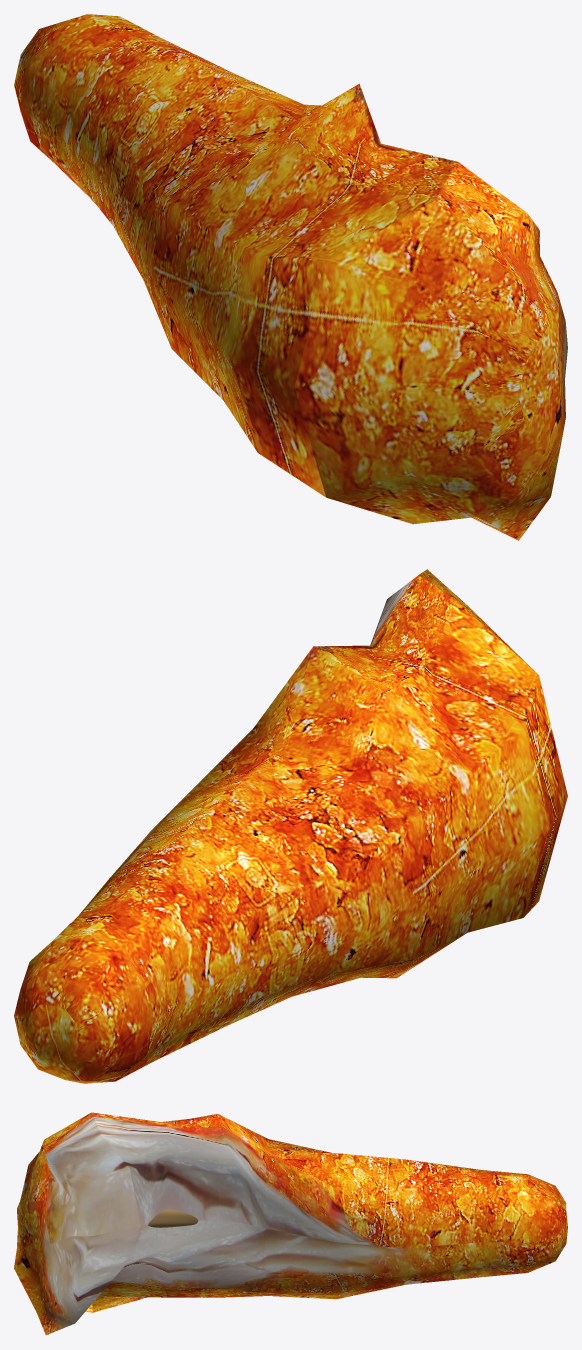
Rendered from FriedChicken_eat01.FBX.
The picture shows the model from 3 angles, top to bottom: view 1: azimuth 30°, elevation 25°; view 2: azimuth 150°, elevation 25°; view 3: azimuth 270°, elevation 25°; orthographic projection. The views are drawn at different scales.
Parts seen in each view (by area): view 1: Chicken_Fried01; view 2: Chicken_Fried01; view 3: Chicken_Fried01, Chicken_Fried01bone.
Boxes of the visible parts, x1,y1,x2,y2 form: Chicken_Fried01: [14, 14, 567, 540]; Chicken_Fried01: [14, 569, 567, 1083]; Chicken_Fried01: [14, 1112, 567, 1335]; Chicken_Fried01bone: [148, 1209, 198, 1227].
Bounding box in the file's own units: 11.17 × 34.28 × 14.79.
2 materials, 1 textured.
